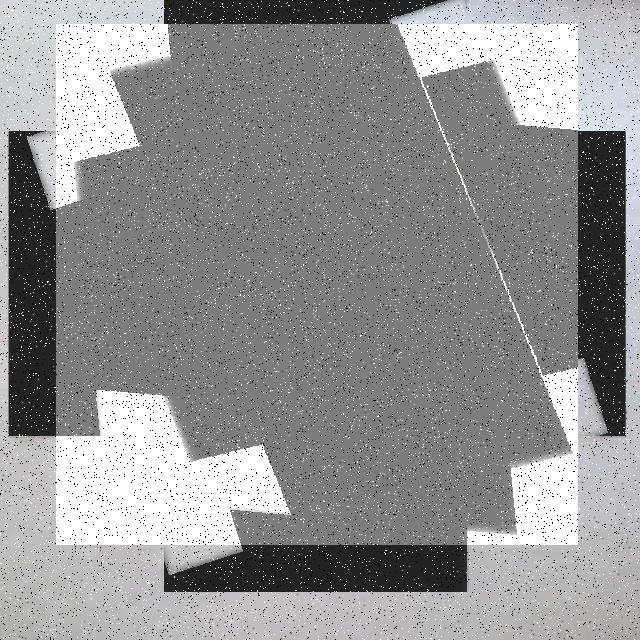lima puluh ribu rupiah: (56, 24, 578, 545)
